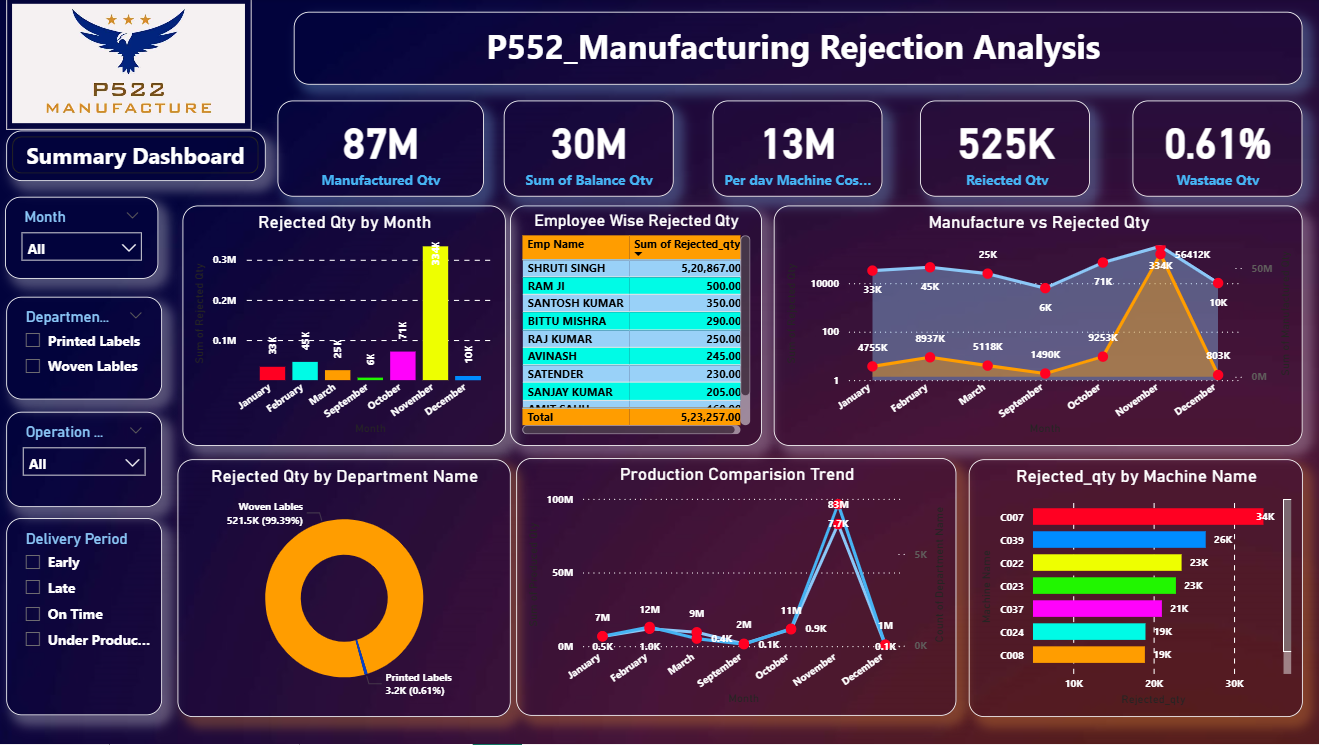

The dashboard page shown, as its layout file describes it:
{"tool":"powerbi","page":{"name":"Rejection Analysis","canvas":[1280,720],"ordinal":1},"visuals":[{"type":"columnChart","title":"Rejected Qty by Month","fields":{"Category":["manufacturinganalysis manufacturingdata.Doc Date.Variation.Date Hierarchy.Month"],"Y":["Sum(manufacturinganalysis manufacturingdata.Rejected Qty)"]},"box":[181,200,311.9,232.1],"z":0},{"type":"tableEx","title":"Employee Wise Rejected Qty","fields":{"Values":["Query3.Emp Name","Sum(Query3.Rejected_qty)"]},"box":[497.6,200,242.9,232.1],"z":1000},{"type":"card","fields":{"Values":["Min(Query1.wastage)"]},"box":[1097.6,98.8,164.3,92.9],"z":2000},{"type":"card","fields":{"Values":["Sum(manufacturinganalysis manufacturingdata.Manufactured Qty)"]},"box":[272.6,98.8,198.8,92.9],"z":3000},{"type":"card","fields":{"Values":["Sum(manufacturinganalysis manufacturingdata.Balance Qty)"]},"box":[490.5,98.8,164.3,92.9],"z":4000},{"type":"card","fields":{"Values":["Sum(manufacturinganalysis manufacturingdata.Per day Machine Cost made)"]},"box":[692.9,98.8,164.3,92.9],"z":5000},{"type":"card","fields":{"Values":["Sum(manufacturinganalysis manufacturingdata.Rejected Qty)"]},"box":[892.9,98.8,164.3,92.9],"z":6000},{"type":"areaChart","title":"Manufacture vs Rejected Qty","fields":{"Category":["manufacturinganalysis manufacturingdata.Doc Date.Variation.Date Hierarchy.Month"],"Y":["Sum(manufacturinganalysis manufacturingdata.Rejected Qty)"],"Y2":["Sum(manufacturinganalysis manufacturingdata.Manufactured Qty)"]},"box":[751.2,200,510.7,232.1],"z":7000},{"type":"donutChart","fields":{"Category":["manufacturinganalysis manufacturingdata.Department Name"],"Y":["Sum(manufacturinganalysis manufacturingdata.Rejected Qty)"]},"box":[176.1,445.2,314.9,152],"z":8000},{"type":"slicer","fields":{"Values":["manufacturinganalysis manufacturingdata.Doc Date.Variation.Date Hierarchy.Month"]},"box":[10.2,191.8,148,79.6],"z":9000},{"type":"slicer","fields":{"Values":["manufacturinganalysis manufacturingdata.Department Name"]},"box":[10.7,288.1,150,98.8],"z":10000},{"type":"slicer","fields":{"Values":["manufacturinganalysis manufacturingdata.Operation Name"]},"box":[10.7,398.8,150,91.7],"z":11000},{"type":"clusteredBarChart","fields":{"Category":["Query4.Machine Name"],"Y":["Sum(Query4.Rejected_qty)"]},"box":[929,445.2,333,275.1],"z":12000},{"type":"lineChart","title":"Production Comparision  Trend","fields":{"Y":["Sum(manufacturinganalysis manufacturingdata.Produced Qty)"],"Category":["manufacturinganalysis manufacturingdata.Doc Date.Variation.Date Hierarchy.Month"],"Y2":["CountNonNull(manufacturinganalysis manufacturingdata.Department Name)"]},"box":[503.1,444,425.9,153.2],"z":13000},{"type":"slicer","fields":{"Values":["manufacturinganalysis manufacturingdata.Delivery Period"]},"box":[10.7,502.4,150,190.5],"z":14000},{"type":"textbox","box":[288.1,13.1,973.8,70.2],"z":15000},{"type":"pageNavigator","box":[10.7,127.4,250,48.8],"z":16000},{"type":"image","box":[10.7,0,236.9,127.4],"z":17000},{"type":"textbox","box":[171.3,610.5,739.5,90.5],"z":17001}]}

Visuals, with their boxes in screenshot pixels (x1, y1, x2, y2), scaled from the page's 1280x720 canvas onto the 1319x745 screenshot:
"Rejected Qty by Month" columnChart: bbox=(187, 207, 508, 447)
"Employee Wise Rejected Qty" tableEx: bbox=(513, 207, 763, 447)
card - Min(Query1.wastage): bbox=(1131, 102, 1300, 198)
card - Sum(manufacturinganalysis manufacturingdata.Manufactured Qty): bbox=(281, 102, 486, 198)
card - Sum(manufacturinganalysis manufacturingdata.Balance Qty): bbox=(505, 102, 675, 198)
card - Sum(manufacturinganalysis manufacturingdata.Per day Machine Cost made): bbox=(714, 102, 883, 198)
card - Sum(manufacturinganalysis manufacturingdata.Rejected Qty): bbox=(920, 102, 1089, 198)
"Manufacture vs Rejected Qty" areaChart: bbox=(774, 207, 1300, 447)
donutChart - manufacturinganalysis manufacturingdata.Department Name x Sum(manufacturinganalysis manufacturingdata.Rejected Qty): bbox=(181, 461, 506, 618)
slicer - manufacturinganalysis manufacturingdata.Doc Date.Variation.Date Hierarchy.Month: bbox=(11, 198, 163, 281)
slicer - manufacturinganalysis manufacturingdata.Department Name: bbox=(11, 298, 166, 400)
slicer - manufacturinganalysis manufacturingdata.Operation Name: bbox=(11, 413, 166, 508)
clusteredBarChart - Query4.Machine Name x Sum(Query4.Rejected_qty): bbox=(957, 461, 1300, 744)
"Production Comparision  Trend" lineChart: bbox=(518, 459, 957, 618)
slicer - manufacturinganalysis manufacturingdata.Delivery Period: bbox=(11, 520, 166, 717)
textbox: bbox=(297, 14, 1300, 86)
pageNavigator: bbox=(11, 132, 269, 182)
image: bbox=(11, 0, 255, 132)
textbox: bbox=(177, 632, 939, 725)
